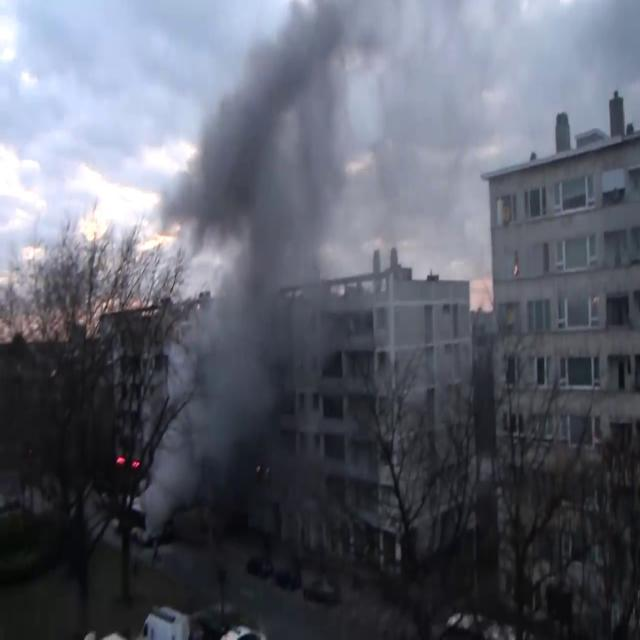Smoke: (124, 1, 466, 520)
